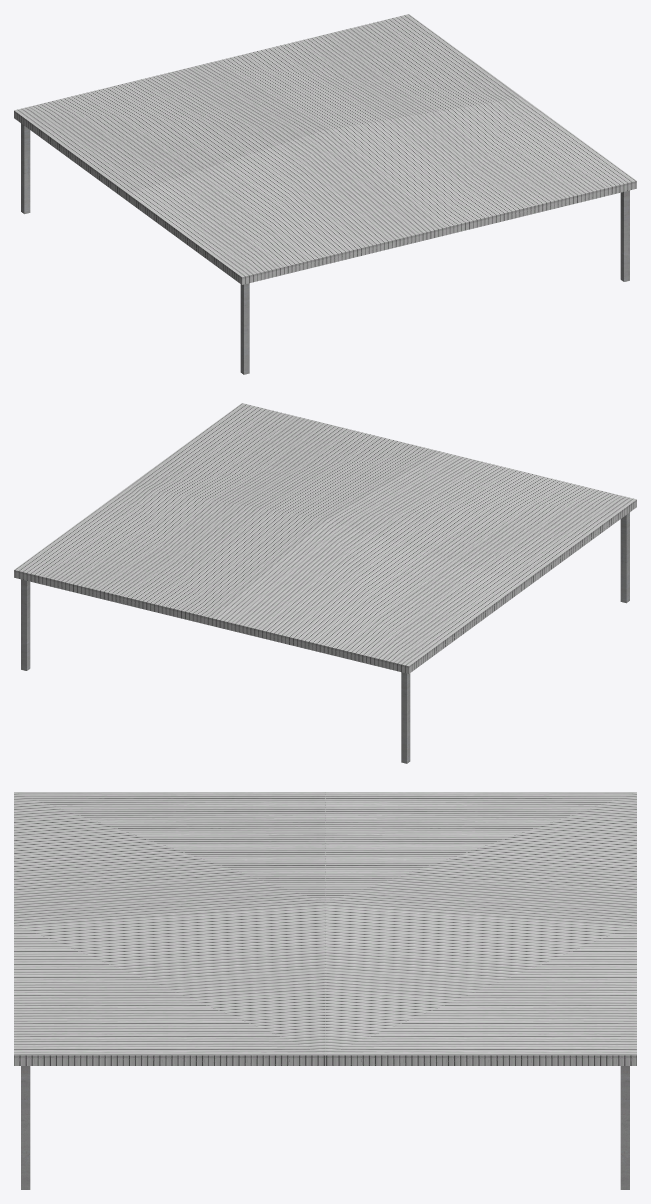
The model's file is Stand.gltf.
3 renders of one model, top to bottom at view 1: azimuth 30°, elevation 25°; view 2: azimuth 150°, elevation 25°; view 3: azimuth 270°, elevation 25°, orthographic. The views are drawn at different scales.
Visible parts, largest first — view 1: Stand; view 2: Stand; view 3: Stand.
Part boxes in pixels (bbox=[...]): Stand: bbox=[14, 14, 636, 374]; Stand: bbox=[14, 403, 636, 763]; Stand: bbox=[14, 792, 636, 1189].
Bounding box in the file's own units: 53.42 × 15 × 53.42.
Materials: 1 (1 with a texture image).
